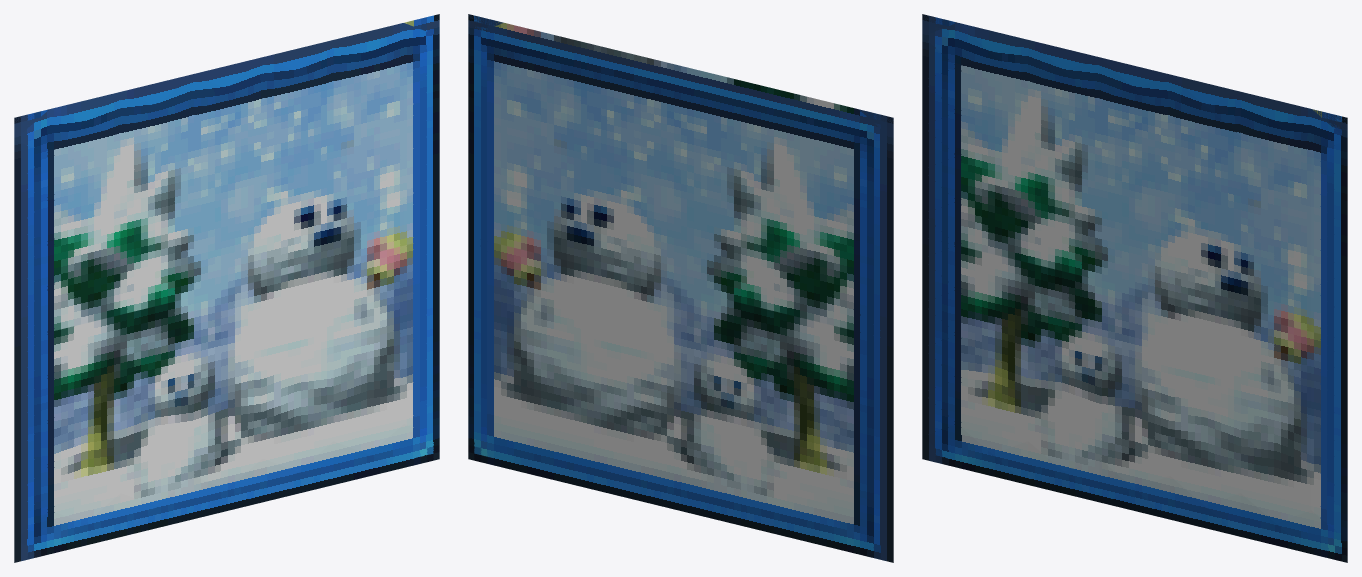
The model's file is Painting1.dae.
3 renders of one model, left to right at view 1: azimuth 30°, elevation 25°; view 2: azimuth 150°, elevation 25°; view 3: azimuth 330°, elevation 25°, orthographic.
Parts seen in each view (by area): view 1: Node1_scale; view 2: Node1_scale; view 3: Node1_scale.
Part boxes in pixels (box(x1,y1,x2,y2)): Node1_scale: box(14, 14, 439, 562); Node1_scale: box(468, 14, 893, 562); Node1_scale: box(922, 14, 1347, 562).
Size of the model in its own units: 614 by 614 by 1.
Materials: 4 (4 with a texture image).
